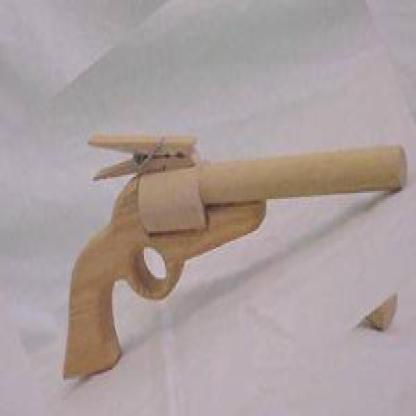pistol: (53, 125, 409, 376)
